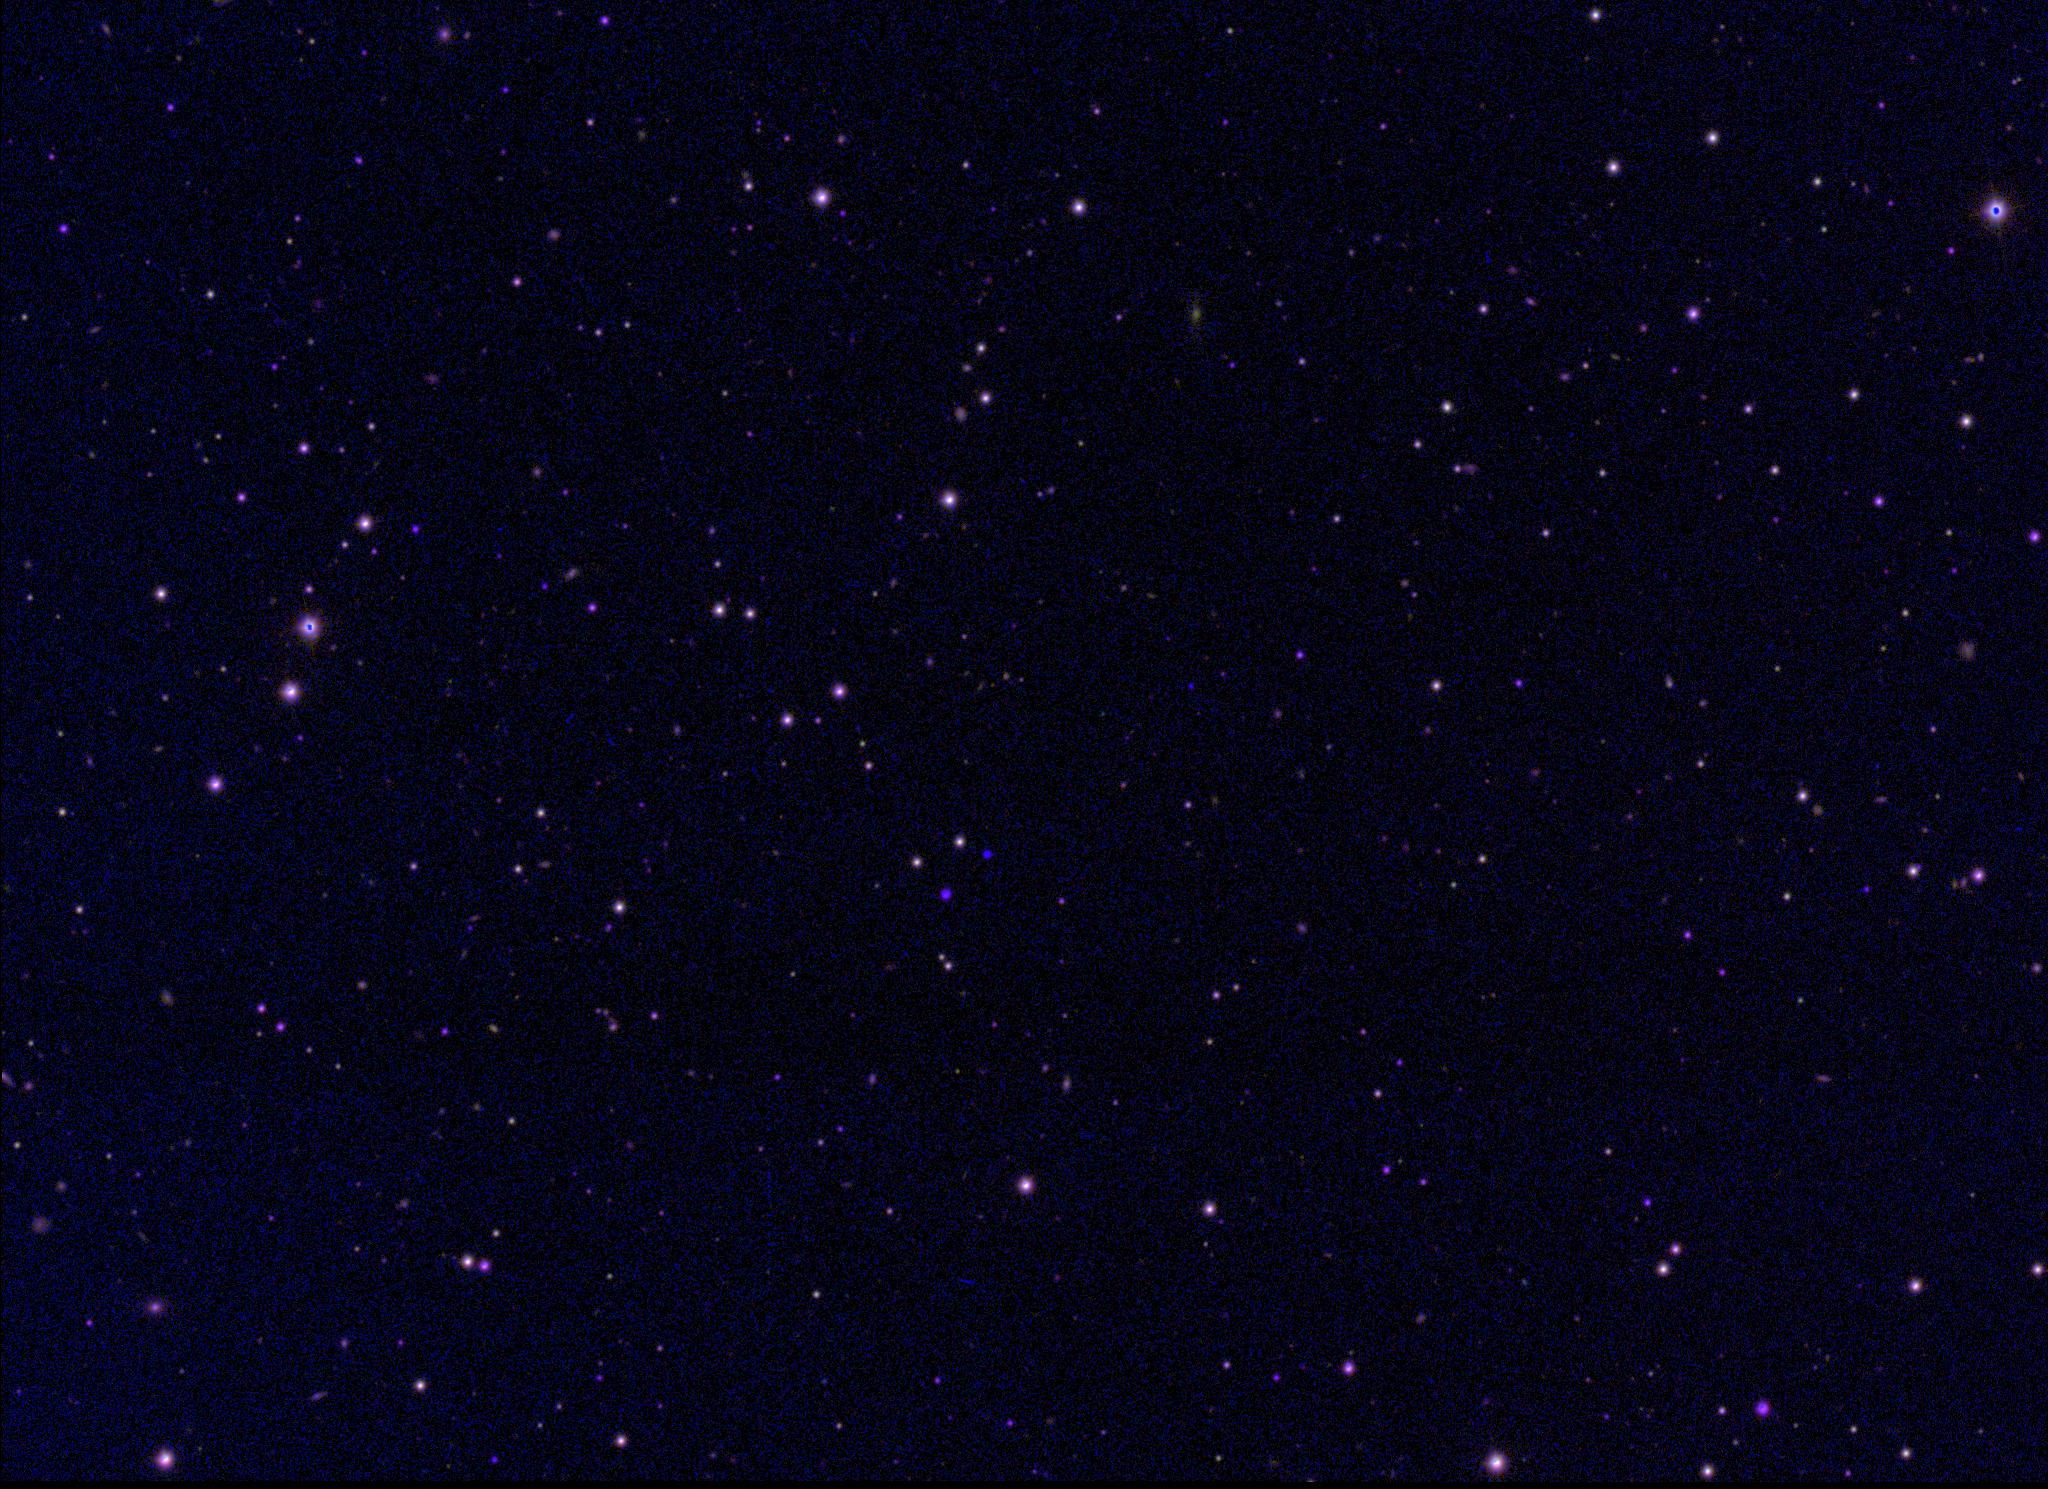L: (979, 846, 994, 861)
